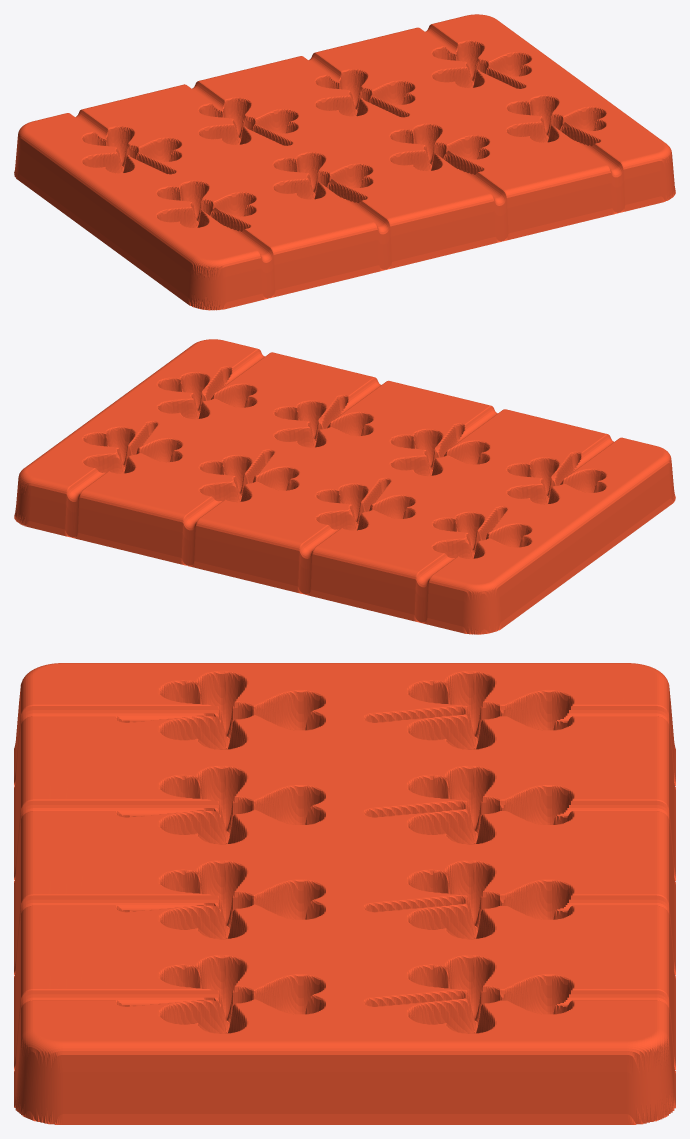
Rendered from mold.glb.
3 renders of one model, top to bottom at view 1: azimuth 30°, elevation 25°; view 2: azimuth 150°, elevation 25°; view 3: azimuth 270°, elevation 25°, orthographic. The views are drawn at different scales.
Visible parts, largest first — view 1: geometry_0; view 2: geometry_0; view 3: geometry_0.
Boxes of the visible parts, x1,y1,x2,y2 form: geometry_0: (14, 14, 675, 310); geometry_0: (14, 339, 675, 634); geometry_0: (14, 663, 675, 1124).
Bounding box in the file's own units: 0.1728 × 0.0155 × 0.1229.
